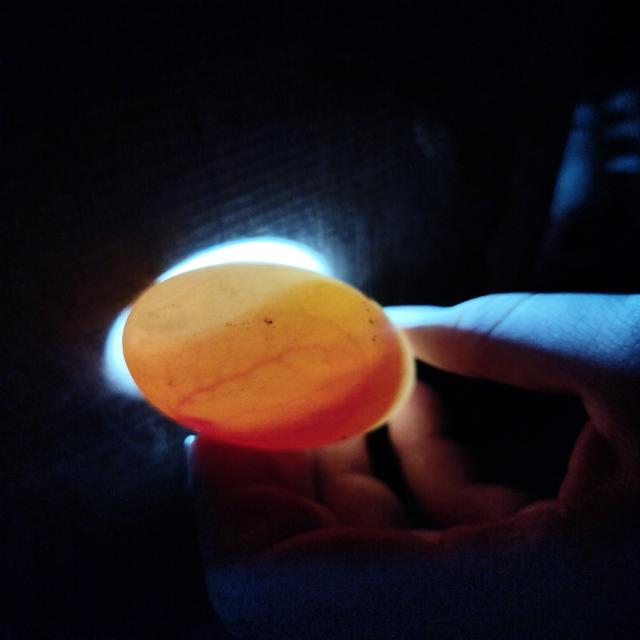Camara de Ar: (125, 263, 330, 348)
Gema Quebrada: (178, 301, 407, 449)
